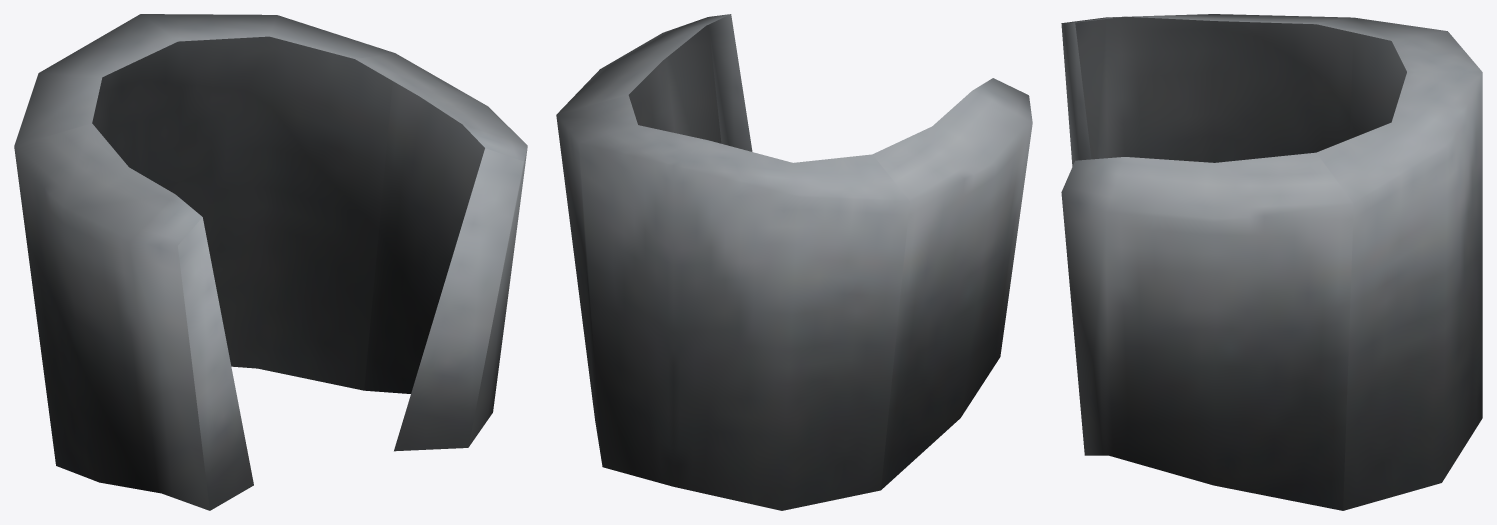
Rendered from grave_marine_neck.glb.
3 views of the same model, side by side, from view 1: azimuth 30°, elevation 25°; view 2: azimuth 150°, elevation 25°; view 3: azimuth 270°, elevation 25° (orthographic). The views are drawn at different scales.
Parts seen in each view (by area): view 1: scythe_marine_neck_guard; view 2: scythe_marine_neck_guard; view 3: scythe_marine_neck_guard.
Boxes of the visible parts, bbox=[...] form: scythe_marine_neck_guard: bbox=[14, 14, 527, 510]; scythe_marine_neck_guard: bbox=[556, 14, 1032, 510]; scythe_marine_neck_guard: bbox=[1061, 14, 1482, 510].
Size of the model in its own units: 1.01 by 0.8187 by 0.8591.
1 material, 1 textured.
